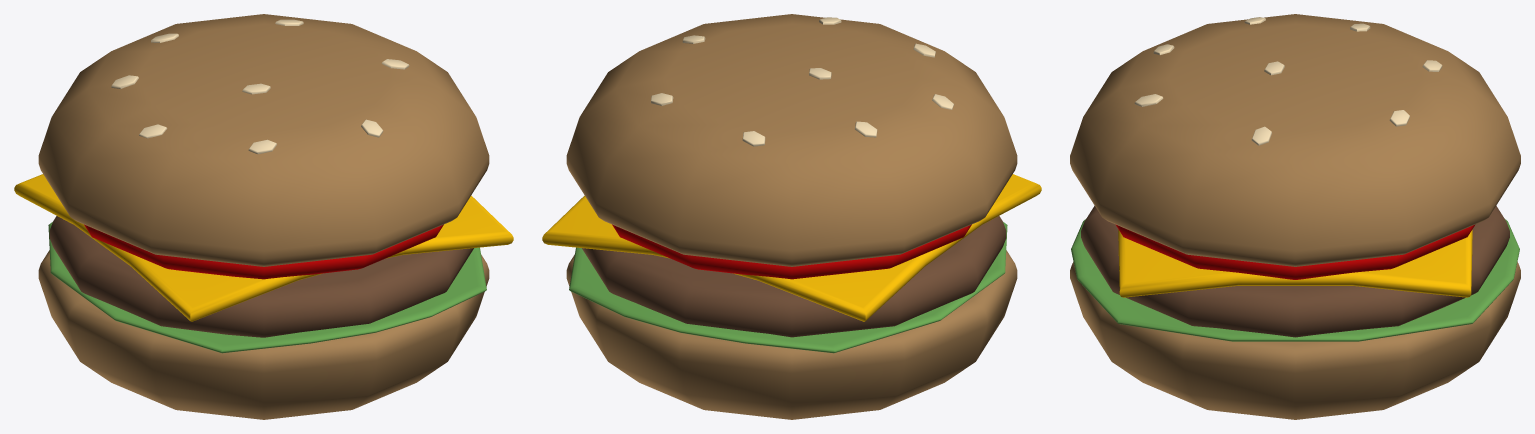
The model's file is Burger.fbx.
3 renders of one model, left to right at view 1: azimuth 30°, elevation 25°; view 2: azimuth 150°, elevation 25°; view 3: azimuth 270°, elevation 25°, orthographic.
Visible parts, largest first — view 1: Burger; view 2: Burger; view 3: Burger.
Part boxes in pixels (x1,y1,x2,y2): Burger: (14, 14, 513, 419); Burger: (542, 14, 1041, 419); Burger: (1070, 14, 1520, 419).
Bounding box in the file's own units: 0.1306 × 0.0896 × 0.1306.
